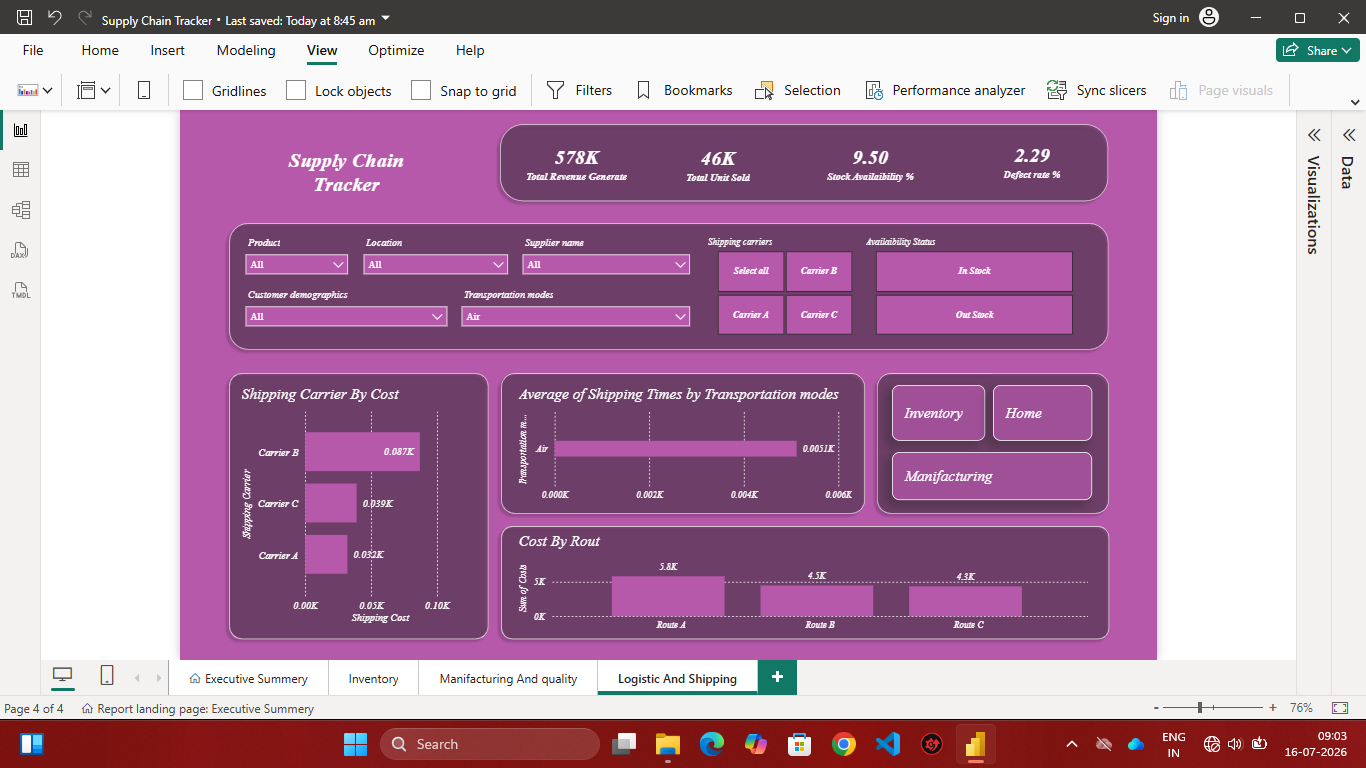

Layout of this report page (visuals, bound fields, positions):
{"tool":"powerbi","page":{"name":"Logistic And Shipping","canvas":[1280,720],"ordinal":3},"visuals":[{"type":"textbox","box":[100.5,45.4,234,82.6],"z":0},{"type":"shape","box":[411.5,11,812,117],"z":1000},{"type":"cardVisual","fields":{"Data":["Manifacturing.Defect rate %"]},"box":[1004.7,28.9,220.2,79.8],"z":2000},{"type":"cardVisual","fields":{"Data":["Product/Sales.Stock Availability"]},"box":[783.1,13.8,242.2,114.2],"z":3000},{"type":"cardVisual","fields":{"Data":["Product/Sales.Total Unit Sold"]},"box":[618,31.7,173.4,82.6],"z":4000},{"type":"cardVisual","fields":{"Data":["Product/Sales.Total Revenue Generate"]},"box":[419.8,31.7,198.2,79.8],"z":5000},{"type":"shape","box":[56.4,140.4,1167.1,181.7],"z":6000},{"type":"slicer","fields":{"Values":["Product/Sales.Product type"]},"box":[75.7,161,154.2,67.4],"z":7000},{"type":"slicer","fields":{"Values":["Ordering.Location"]},"box":[229.8,161,209.2,78.5],"z":8000},{"type":"slicer","fields":{"Values":["Ordering.Supplier name"]},"box":[439.1,161,239.5,67.4],"z":9000},{"type":"slicer","fields":{"Values":["Product/Sales.Customer demographics"]},"box":[75.7,228.5,283.5,72.9],"z":10000},{"type":"slicer","fields":{"Values":["Shipping/Logistic.Transportation modes"]},"box":[359.2,228.5,319.3,72.9],"z":11000},{"type":"slicer","fields":{"Values":["Shipping/Logistic.Shipping carriers"]},"box":[678.5,161,225.7,140.4],"z":12000},{"type":"slicer","fields":{"Values":["Product/Sales.Availaibility Status"]},"box":[885,161,308.3,140.4],"z":13000},{"type":"shape","box":[56.2,337,355.7,364.3],"z":14000},{"type":"barChart","title":"Shipping Carrier By Cost","fields":{"Y":["Sum(Shipping/Logistic.Shipping costs)"],"Category":["Shipping/Logistic.Shipping carriers"]},"box":[76.3,360,306.7,316.8],"z":15000},{"type":"shape","box":[411.8,337,492.5,200.2],"z":16000},{"type":"shape","box":[411.8,537.1,812.2,164.2],"z":17000},{"type":"shape","box":[904.3,337,319.7,200.2],"z":18000},{"type":"actionButton","box":[931.7,360,122.4,73.4],"z":19000},{"type":"actionButton","box":[1064.2,360,129.6,73.4],"z":20000},{"type":"actionButton","box":[931.7,447.8,262.1,63.4],"z":21000},{"type":"clusteredBarChart","fields":{"Y":["Avg(Shipping/Logistic.Shipping Times)"],"Category":["Shipping/Logistic.Transportation modes"]},"box":[439.2,360,446.4,159.8],"z":22000},{"type":"columnChart","title":"Cost By Rout","fields":{"Category":["Shipping/Logistic.Routes"],"Y":["Sum(Shipping/Logistic.Costs)"]},"box":[439.2,553,754.6,138.2],"z":23000}]}

Visuals, with their boxes on the page's 1280x720 design canvas (x1, y1, x2, y2). These are canvas units, not pixel positions in the 1366x768 screenshot, which may show the page scaled, cropped or inside an application window:
textbox: [left=100, top=45, right=334, bottom=128]
shape: [left=412, top=11, right=1224, bottom=128]
cardVisual - Manifacturing.Defect rate %: [left=1005, top=29, right=1225, bottom=109]
cardVisual - Product/Sales.Stock Availability: [left=783, top=14, right=1025, bottom=128]
cardVisual - Product/Sales.Total Unit Sold: [left=618, top=32, right=791, bottom=114]
cardVisual - Product/Sales.Total Revenue Generate: [left=420, top=32, right=618, bottom=112]
shape: [left=56, top=140, right=1224, bottom=322]
slicer - Product/Sales.Product type: [left=76, top=161, right=230, bottom=228]
slicer - Ordering.Location: [left=230, top=161, right=439, bottom=240]
slicer - Ordering.Supplier name: [left=439, top=161, right=679, bottom=228]
slicer - Product/Sales.Customer demographics: [left=76, top=228, right=359, bottom=301]
slicer - Shipping/Logistic.Transportation modes: [left=359, top=228, right=678, bottom=301]
slicer - Shipping/Logistic.Shipping carriers: [left=678, top=161, right=904, bottom=301]
slicer - Product/Sales.Availaibility Status: [left=885, top=161, right=1193, bottom=301]
shape: [left=56, top=337, right=412, bottom=701]
"Shipping Carrier By Cost" barChart: [left=76, top=360, right=383, bottom=677]
shape: [left=412, top=337, right=904, bottom=537]
shape: [left=412, top=537, right=1224, bottom=701]
shape: [left=904, top=337, right=1224, bottom=537]
actionButton: [left=932, top=360, right=1054, bottom=433]
actionButton: [left=1064, top=360, right=1194, bottom=433]
actionButton: [left=932, top=448, right=1194, bottom=511]
clusteredBarChart - Avg(Shipping/Logistic.Shipping Times) x Shipping/Logistic.Transportation modes: [left=439, top=360, right=886, bottom=520]
"Cost By Rout" columnChart: [left=439, top=553, right=1194, bottom=691]
